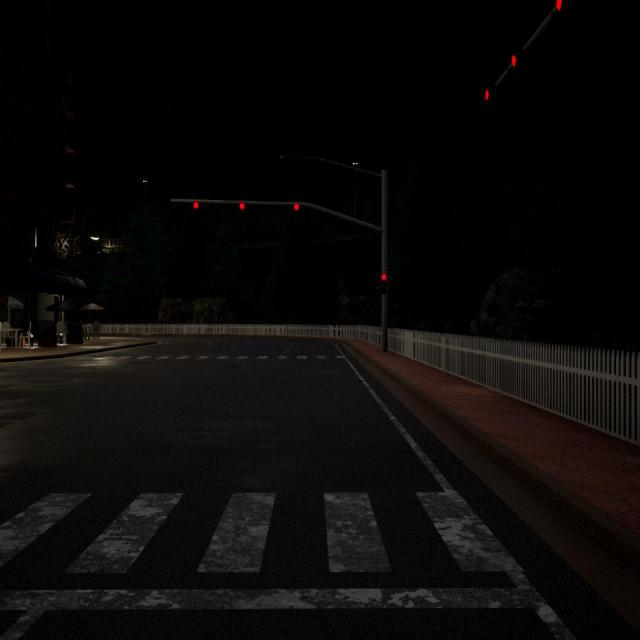Pedestrian: (92, 318, 100, 340)
traffic_light: (381, 273, 387, 295), (556, 0, 564, 12), (484, 88, 490, 102), (511, 55, 517, 68), (294, 203, 300, 211), (240, 202, 245, 210), (194, 202, 198, 208)
